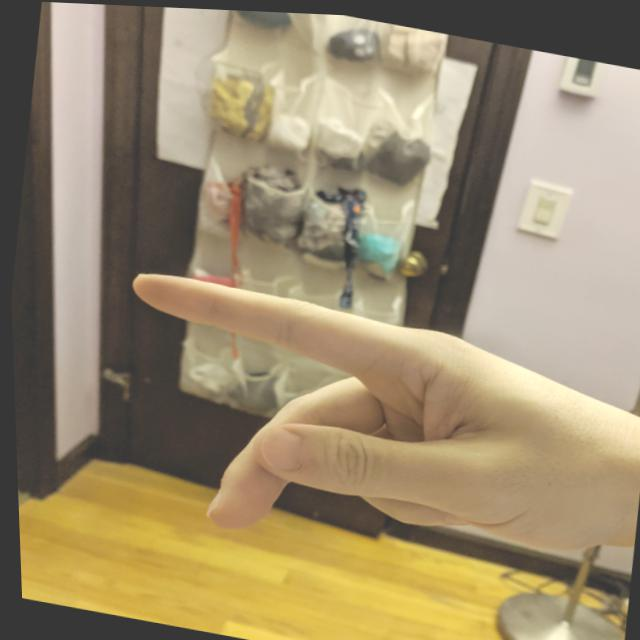P: (87, 253, 639, 604)
